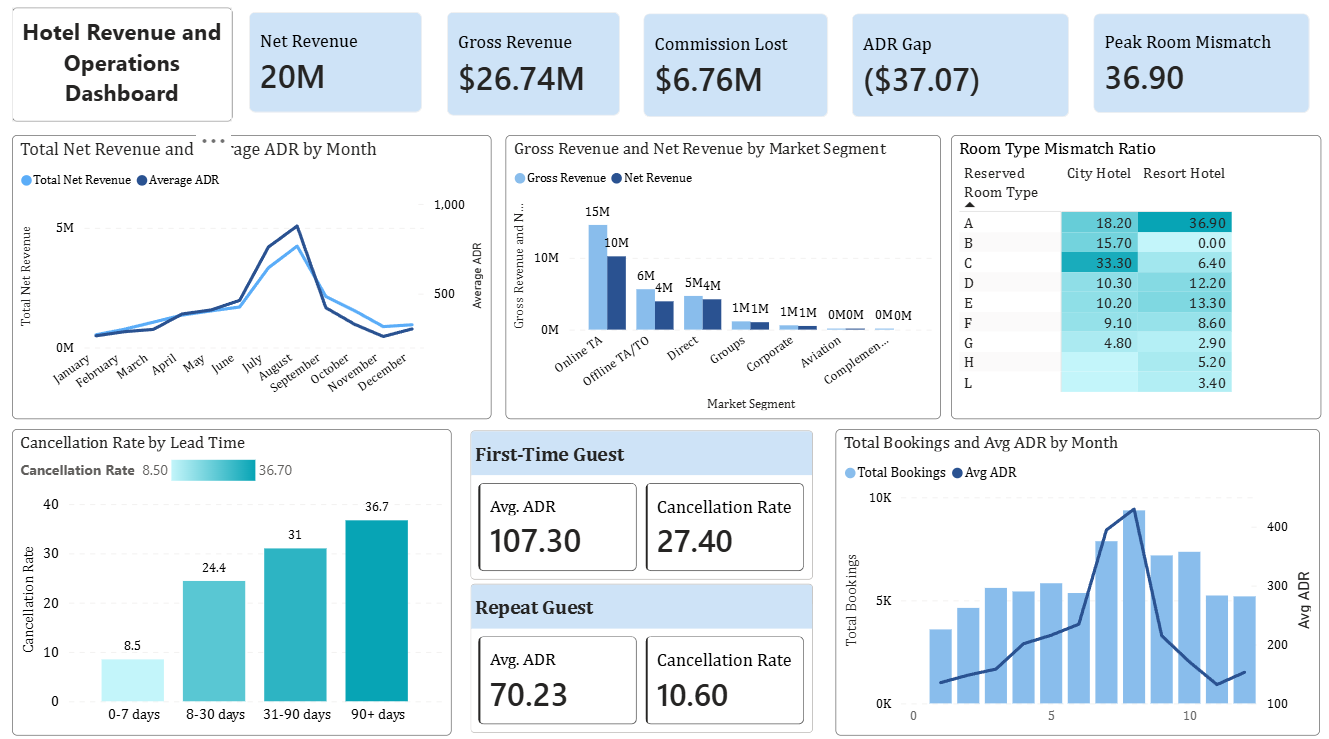

What the dashboard file says about the page in this screenshot:
{"tool":"powerbi","page":{"name":"Page 1","canvas":[1280,720],"ordinal":0},"visuals":[{"type":"cardVisual","fields":{"Data":["Sum(Query2.net_revenue)"]},"box":[231.9,0,187.8,118.9],"z":0},{"type":"cardVisual","fields":{"Data":["Sum(Query2.commission_cost)"]},"box":[607.5,1.5,198.3,122],"z":1000},{"type":"cardVisual","fields":{"Data":["Sum(Query2.gross_revenue)"]},"box":[419.7,0,187.8,122],"z":2000},{"type":"cardVisual","fields":{"Data":["Query5.ADR Gap"]},"box":[805.8,1.5,229.8,122],"z":3000},{"type":"cardVisual","fields":{"Data":["Query4.Peak Room Mismatch"]},"box":[1035.6,1.5,228.3,117.4],"z":4000},{"type":"lineChart","fields":{"Y":["Sum(Query1.total_net_revenue)"],"Y2":["Sum(Query1.avg_adr)"],"Category":["Query1.year_month.Variation.Date Hierarchy.Month"]},"box":[16.5,129,457,270.3],"z":5000},{"type":"clusteredColumnChart","fields":{"Category":["Query2.market_segment"],"Y":["Sum(Query2.gross_revenue)","Sum(Query2.net_revenue)"]},"box":[487.2,129,414.4,270.3],"z":6000},{"type":"clusteredColumnChart","fields":{"Category":["Query3.lead_time_bucket"],"Y":["Sum(Query3.cancellation_rate_pct)"]},"box":[16.5,409,418.6,292.3],"z":7000},{"type":"pivotTable","title":"Room Type Mismatch Ratio","fields":{"Rows":["Query4.reserved_room_type"],"Columns":["Query4.hotel"],"Values":["Sum(Query4.mismatch_rate_pct)"]},"box":[911.2,129,352.7,270.3],"z":8000},{"type":"cardVisual","fields":{"Rows":["Query5.guest_type"],"Data":["Sum(Query5.avg_adr)","Sum(Query5.cancellation_rate_pct)"]},"box":[448.8,389.7,337.6,329.4],"z":9000},{"type":"lineStackedColumnComboChart","fields":{"Category":["Query6.month_num"],"Y":["Sum(Query6.total_bookings)"],"Y2":["Sum(Query6.avg_adr)"]},"box":[801.4,409,461.1,292.3],"z":11000},{"type":"textbox","box":[16.5,6.9,210,108.4],"z":11002}]}

Visuals, with their boxes in screenshot pixels (x1, y1, x2, y2), scaled from the page's 1280x720 canvas onto the 1329x739 screenshot:
cardVisual - Sum(Query2.net_revenue): {"left": 241, "top": 0, "right": 436, "bottom": 122}
cardVisual - Sum(Query2.commission_cost): {"left": 631, "top": 2, "right": 837, "bottom": 127}
cardVisual - Sum(Query2.gross_revenue): {"left": 436, "top": 0, "right": 631, "bottom": 125}
cardVisual - Query5.ADR Gap: {"left": 837, "top": 2, "right": 1075, "bottom": 127}
cardVisual - Query4.Peak Room Mismatch: {"left": 1075, "top": 2, "right": 1312, "bottom": 122}
lineChart - Sum(Query1.total_net_revenue) x Sum(Query1.avg_adr): {"left": 17, "top": 132, "right": 492, "bottom": 410}
clusteredColumnChart - Query2.market_segment x Sum(Query2.gross_revenue): {"left": 506, "top": 132, "right": 936, "bottom": 410}
clusteredColumnChart - Query3.lead_time_bucket x Sum(Query3.cancellation_rate_pct): {"left": 17, "top": 420, "right": 452, "bottom": 720}
"Room Type Mismatch Ratio" pivotTable: {"left": 946, "top": 132, "right": 1312, "bottom": 410}
cardVisual - Query5.guest_type x Sum(Query5.avg_adr): {"left": 466, "top": 400, "right": 817, "bottom": 738}
lineStackedColumnComboChart - Query6.month_num x Sum(Query6.total_bookings): {"left": 832, "top": 420, "right": 1311, "bottom": 720}
textbox: {"left": 17, "top": 7, "right": 235, "bottom": 118}
